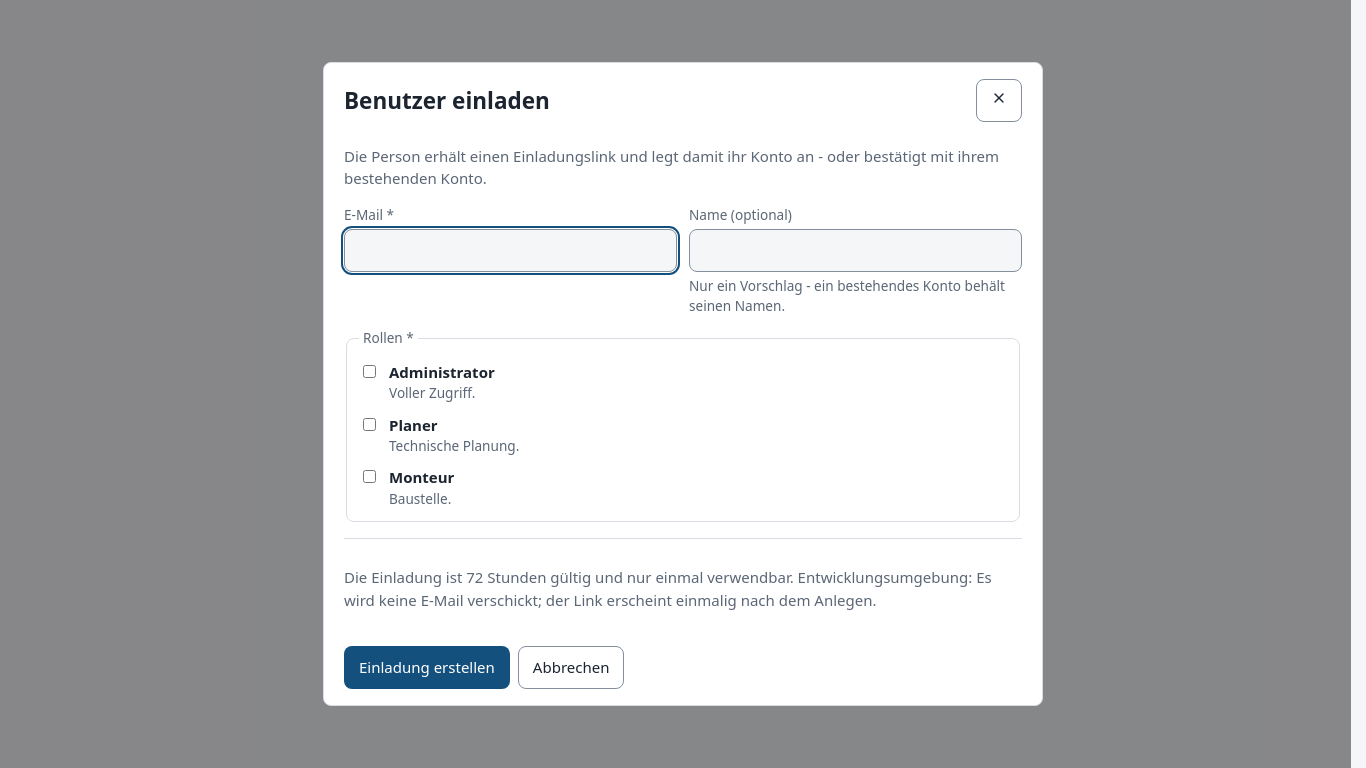
Test: Benutzer einladen › prüft E-Mail und Rollen, ohne zu senden
The width and height of the screenshot is (1366, 768).
Step 1. Type "keine-mail" into the field labelled "E-Mail *" → (510, 250), box [344,229,677,272]
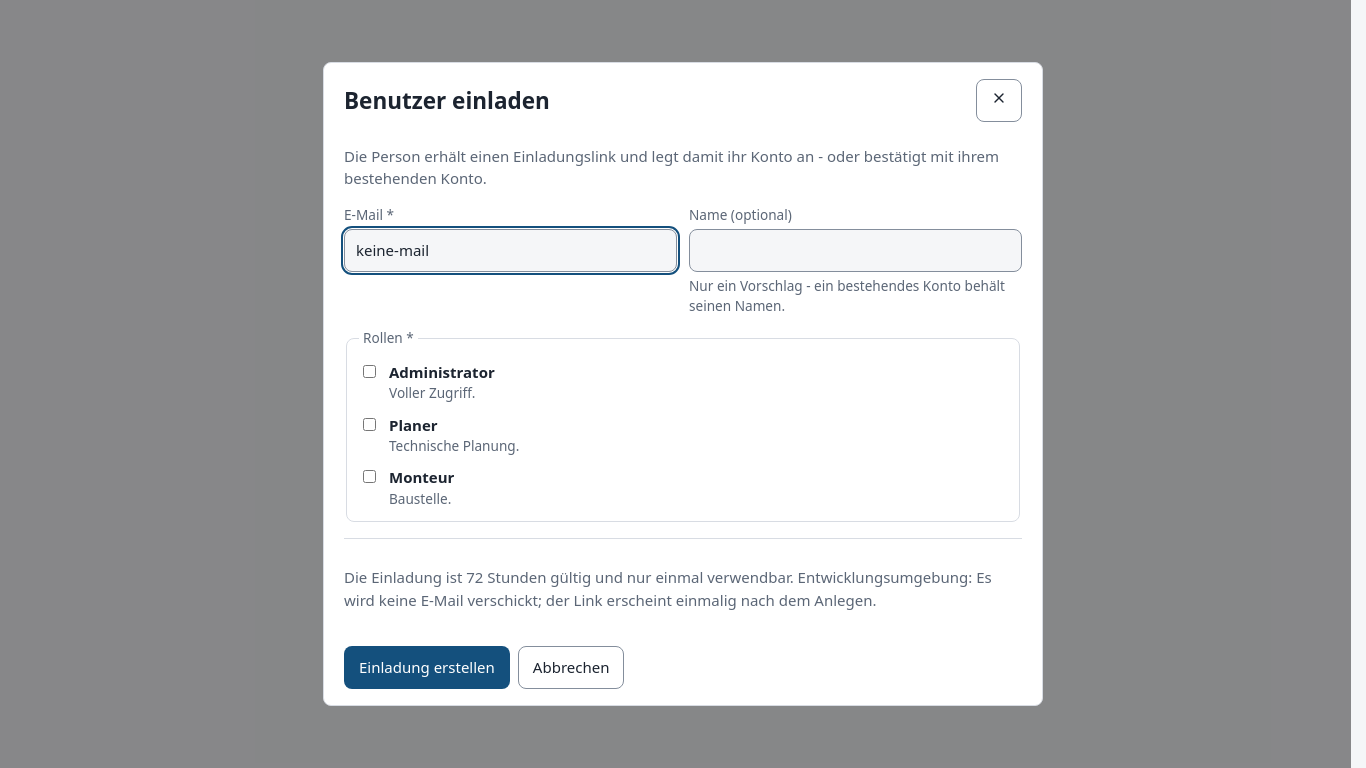
Step 2. Click the button "Einladung erstellen" → (427, 668), box [344,646,510,689]
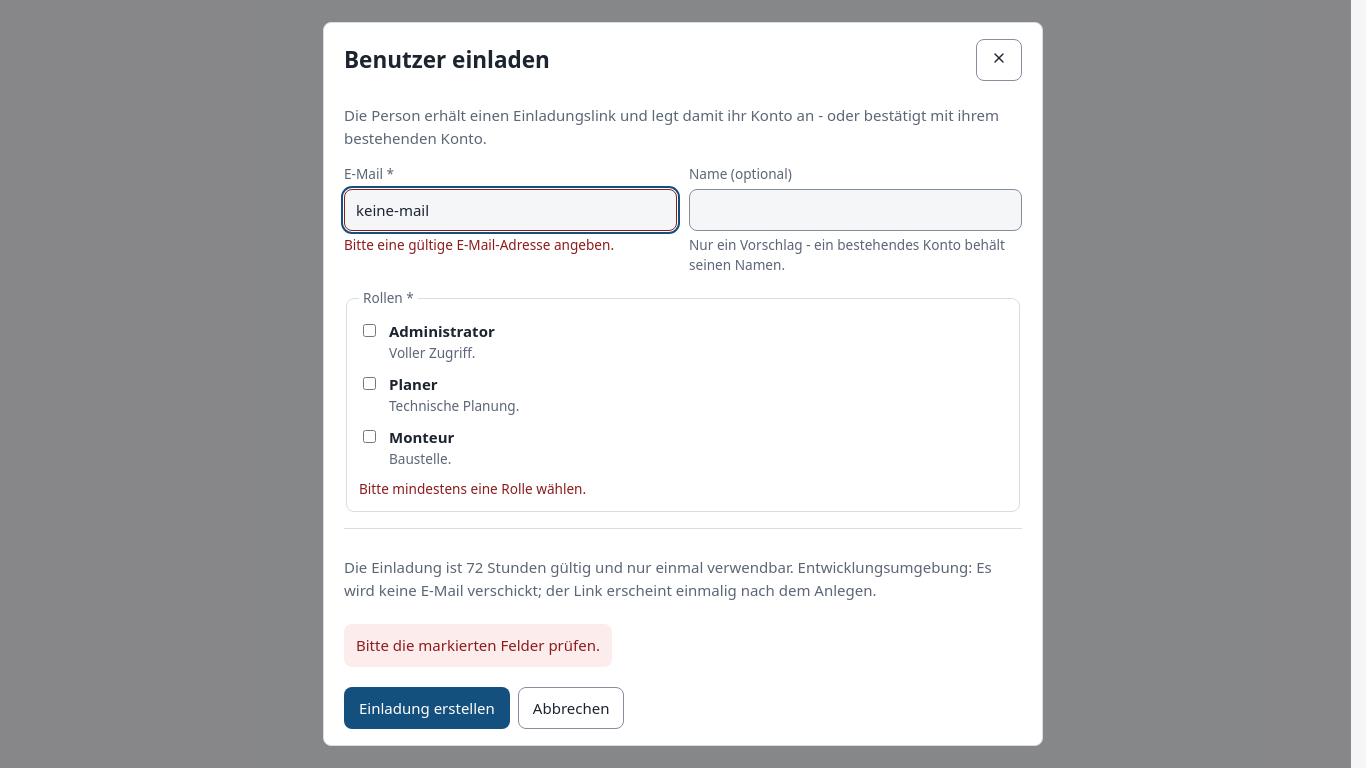
Now the text "Bitte eine gültige E-Mail-Adresse angeben." is shown, box [344,235,614,254]
Now the text "Bitte mindestens eine Rolle wählen." is shown, box [359,479,586,498]
